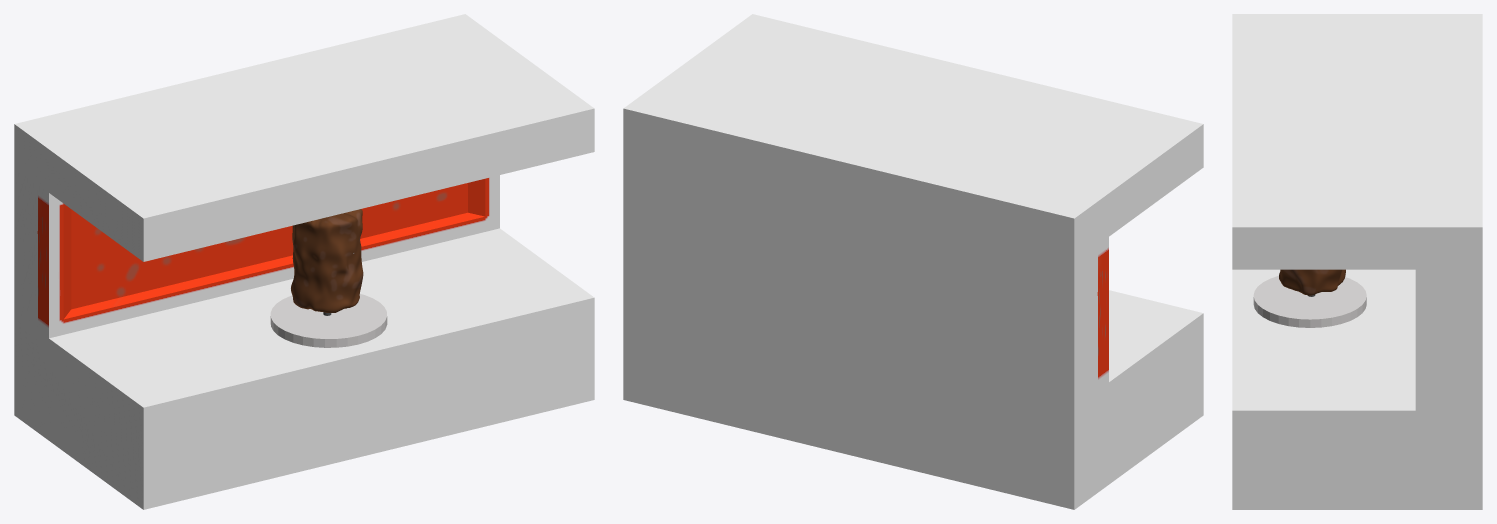
File: Kebap.fbx
The picture shows the model from 3 angles, left to right: view 1: azimuth 30°, elevation 25°; view 2: azimuth 150°, elevation 25°; view 3: azimuth 270°, elevation 25°; orthographic projection. The views are drawn at different scales.
Parts seen in each view (by area): view 1: Cube, Rollo; view 2: Cube; view 3: Cube, Rollo.
Boxes of the visible parts, x1,y1,x2,y2 form: Cube: [14, 14, 594, 509]; Rollo: [291, 209, 363, 315]; Cube: [623, 14, 1203, 509]; Cube: [1232, 14, 1482, 509]; Rollo: [1279, 269, 1345, 296].
Bounding box in the file's own units: 403 × 249 × 200.
